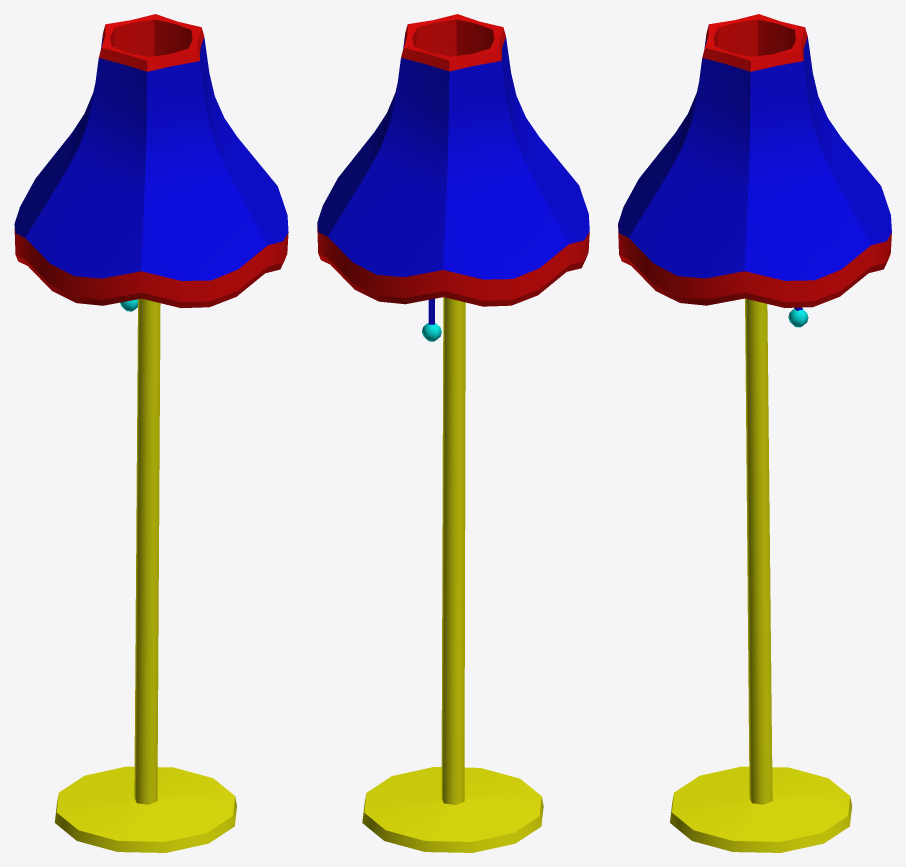
The model's file is LivingRoom_FloorLamp.fbx.
The picture shows the model from 3 angles, left to right: view 1: azimuth 30°, elevation 25°; view 2: azimuth 150°, elevation 25°; view 3: azimuth 270°, elevation 25°; orthographic projection.
Parts seen in each view (by area): view 1: LivingRoom_FloorLamp; view 2: LivingRoom_FloorLamp; view 3: LivingRoom_FloorLamp.
Part boxes in pixels (bbox=[...]): LivingRoom_FloorLamp: bbox=[14, 14, 288, 852]; LivingRoom_FloorLamp: bbox=[317, 14, 589, 852]; LivingRoom_FloorLamp: bbox=[618, 14, 891, 852].
Bounding box in the file's own units: 73.92 × 227 × 72.36.
